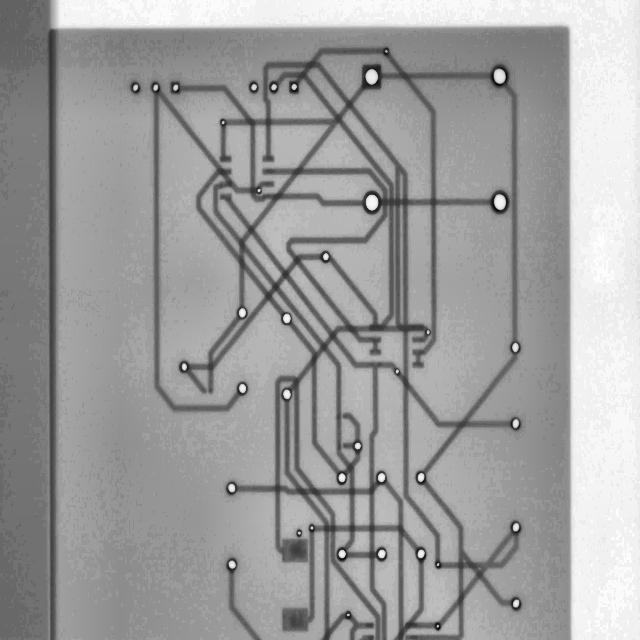Both: (491, 192, 509, 213), (490, 66, 508, 86), (363, 66, 380, 87), (365, 193, 380, 212), (224, 481, 240, 496), (509, 416, 523, 431), (247, 81, 260, 94), (236, 382, 248, 396), (226, 558, 238, 572), (319, 251, 331, 264), (336, 471, 348, 484), (236, 306, 247, 319), (510, 521, 521, 534), (510, 341, 521, 354), (130, 81, 140, 94), (282, 388, 292, 401), (179, 361, 189, 373), (416, 548, 426, 560), (511, 598, 521, 610), (377, 548, 386, 560), (377, 471, 386, 483), (151, 82, 160, 93), (282, 313, 291, 324), (416, 472, 425, 483), (338, 548, 346, 560), (171, 83, 180, 93), (270, 82, 278, 93), (290, 82, 298, 92), (354, 441, 361, 451), (255, 187, 262, 195), (296, 530, 302, 537), (425, 329, 431, 336), (220, 119, 226, 126), (384, 49, 389, 56), (346, 611, 351, 618), (395, 368, 400, 375), (436, 622, 440, 630), (309, 525, 314, 531), (436, 561, 440, 568)
L1: (221, 194, 397, 640), (217, 38, 481, 331), (206, 164, 386, 561), (220, 63, 459, 328), (80, 93, 243, 428), (224, 371, 386, 640), (154, 65, 367, 256), (251, 399, 364, 640), (263, 168, 389, 354), (385, 50, 447, 369), (405, 481, 511, 640), (188, 166, 285, 331), (380, 324, 442, 565), (421, 352, 519, 475), (288, 319, 340, 478), (504, 84, 524, 342), (324, 255, 382, 325), (195, 311, 241, 395), (384, 480, 404, 640), (338, 410, 368, 443), (348, 611, 375, 640), (282, 538, 308, 562), (186, 368, 209, 395), (221, 126, 231, 161), (405, 622, 436, 628), (258, 181, 274, 189), (360, 635, 374, 640), (344, 444, 354, 448)
L2: (149, 31, 369, 309), (186, 242, 324, 382), (274, 296, 414, 392), (149, 91, 258, 202), (386, 373, 513, 453), (437, 531, 514, 628), (287, 29, 386, 84), (437, 535, 523, 578), (217, 570, 261, 640), (395, 558, 431, 640), (314, 526, 419, 551), (236, 481, 380, 495), (320, 611, 348, 640), (379, 73, 491, 79), (307, 531, 314, 622), (342, 449, 363, 477), (283, 609, 308, 630), (379, 200, 493, 204), (346, 553, 378, 557)
